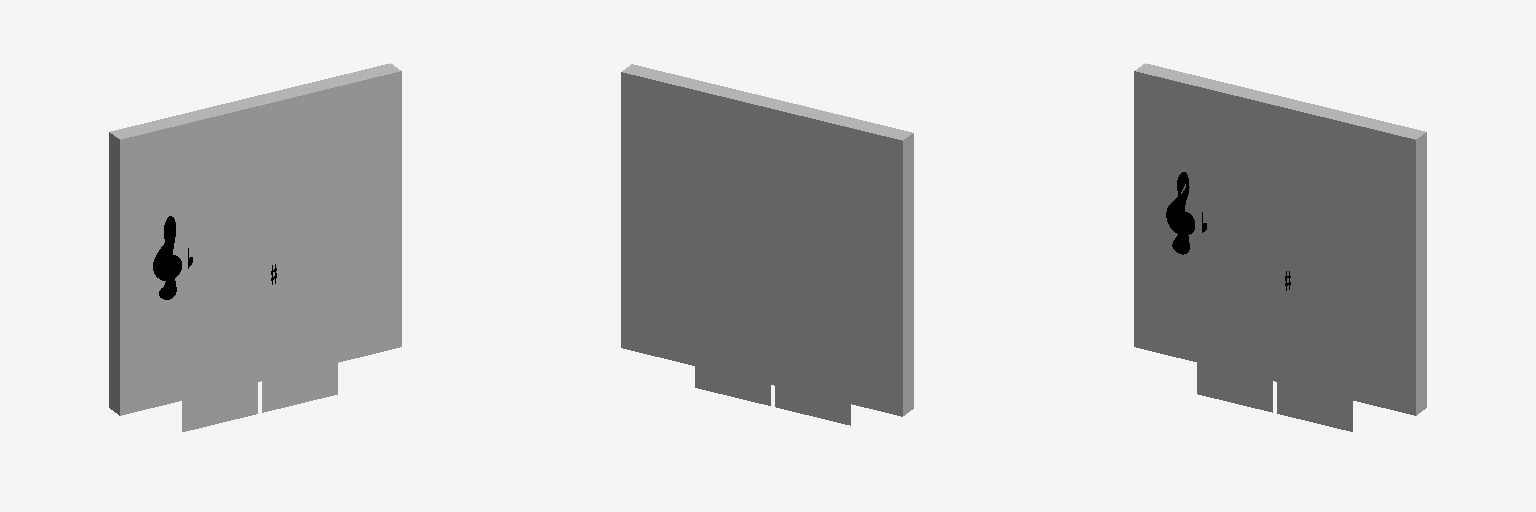
3 renders of one model, left to right at view 1: azimuth 30°, elevation 25°; view 2: azimuth 150°, elevation 25°; view 3: azimuth 330°, elevation 25°, orthographic.
Visible parts, largest first — view 1: UCX_door, door_left; view 2: UCX_door, door_left; view 3: UCX_door, door_left.
Boxes of the visible parts, <box> form: UCX_door: <box>109,63,401,415</box>; door_left: <box>153,216,337,431</box>; UCX_door: <box>621,64,913,416</box>; door_left: <box>695,366,850,425</box>; UCX_door: <box>1134,63,1426,415</box>; door_left: <box>1166,172,1352,431</box>.
Bounding box in the file's own units: 9.03 × 9.44 × 0.6688.
5 materials, 1 textured.